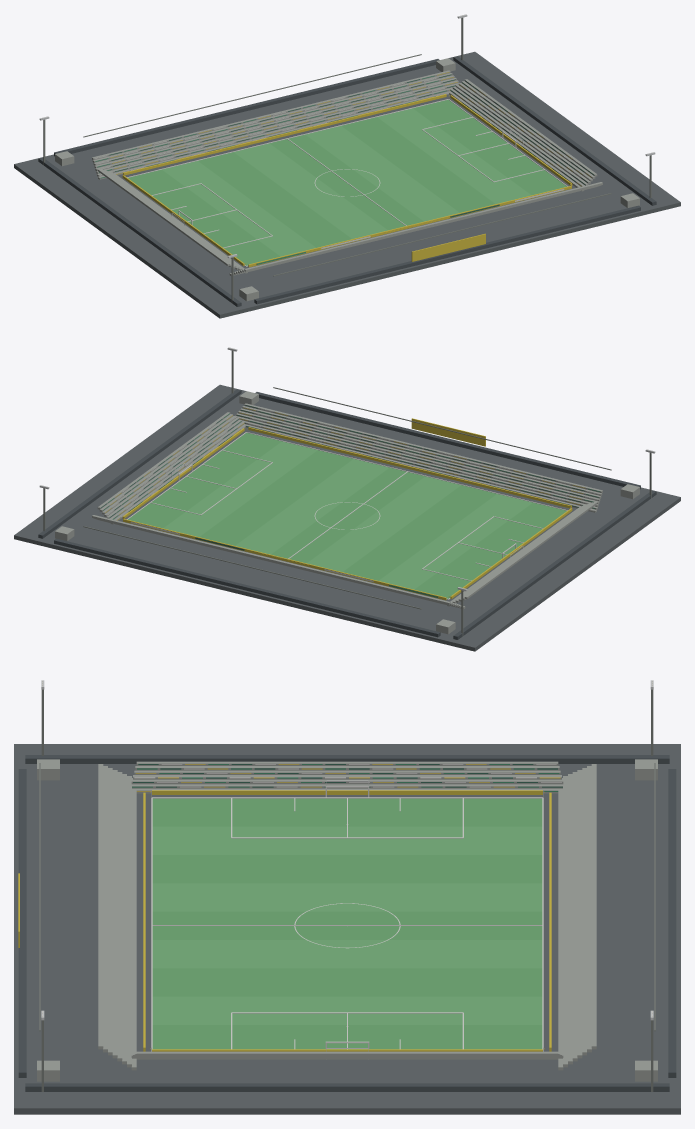
Rendered from arena_aberta.glb.
3 renders of one model, top to bottom at view 1: azimuth 30°, elevation 25°; view 2: azimuth 150°, elevation 25°; view 3: azimuth 270°, elevation 25°, orthographic. The views are drawn at different scales.
Parts seen in each view (by area): view 1: material_00, material_01, material_02, material_09, material_12, material_06, material_03, material_13, material_07, material_08, material_10, material_11; view 2: material_00, material_01, material_02, material_09, material_12, material_06, material_03, material_13, material_07, material_08, material_11, material_10; view 3: material_00, material_01, material_02, material_09, material_12, material_06, material_03, material_13, material_08, material_11, material_07, material_10.
Part boxes in pixels (left/top/right/bottom): material_00: left=14, top=51, right=680, bottom=318; material_01: left=128, top=99, right=566, bottom=265; material_02: left=162, top=108, right=531, bottom=256; material_09: left=55, top=58, right=639, bottom=301; material_12: left=38, top=56, right=656, bottom=306; material_06: left=122, top=94, right=572, bottom=267; material_03: left=127, top=99, right=567, bottom=266; material_13: left=43, top=17, right=651, bottom=302; material_07: left=95, top=75, right=593, bottom=264; material_08: left=109, top=74, right=587, bottom=217; material_10: left=110, top=72, right=591, bottom=186; material_11: left=94, top=78, right=589, bottom=187; material_00: left=14, top=384, right=680, bottom=651; material_01: left=128, top=432, right=566, bottom=598; material_02: left=163, top=441, right=532, bottom=589; material_09: left=55, top=391, right=639, bottom=634; material_12: left=38, top=389, right=656, bottom=639; material_06: left=122, top=418, right=572, bottom=600; material_03: left=127, top=432, right=567, bottom=599; material_13: left=43, top=350, right=651, bottom=635; material_07: left=103, top=411, right=600, bottom=597; material_08: left=101, top=405, right=584, bottom=550; material_11: left=107, top=408, right=599, bottom=517; material_10: left=105, top=407, right=585, bottom=520; material_00: left=14, top=744, right=680, bottom=1114; material_01: left=152, top=798, right=542, bottom=1049; material_02: left=152, top=826, right=542, bottom=1024; material_09: left=37, top=759, right=657, bottom=1081; material_12: left=18, top=755, right=676, bottom=1091; material_06: left=18, top=790, right=551, bottom=1051; material_03: left=151, top=786, right=543, bottom=1051; material_13: left=39, top=689, right=655, bottom=1091; material_08: left=133, top=764, right=562, bottom=787; material_11: left=134, top=764, right=561, bottom=787; material_07: left=132, top=764, right=559, bottom=791; material_10: left=135, top=764, right=560, bottom=791.
Size of the model in its own units: 150 by 16.06 by 116.
